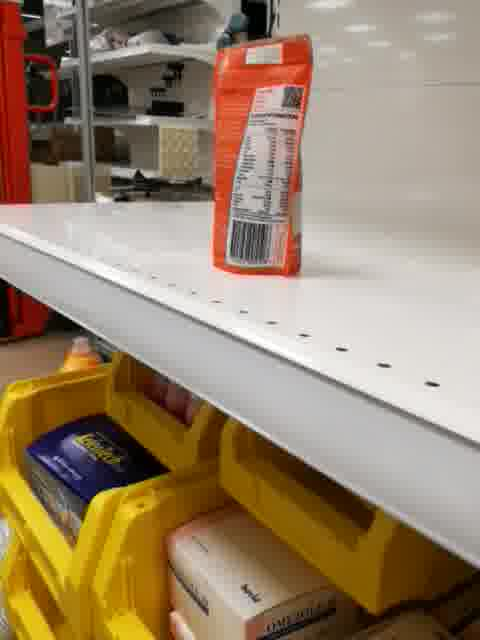whitechia: (209, 31, 315, 282)
